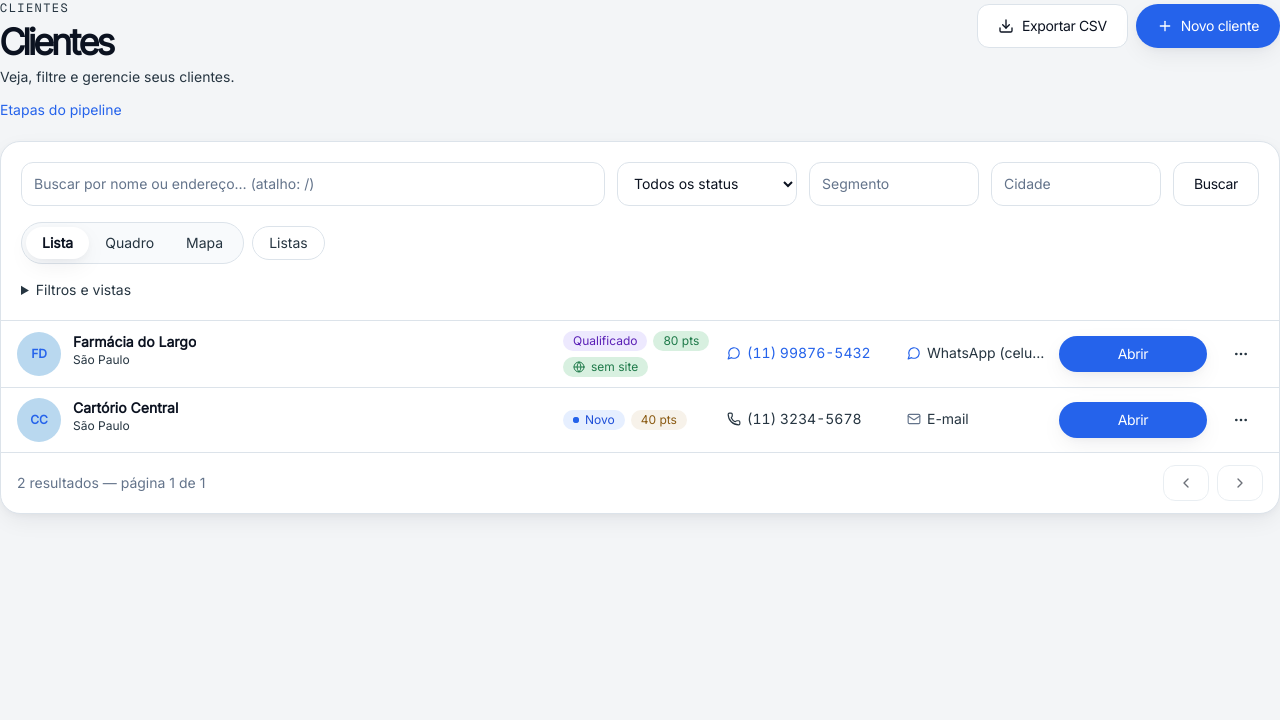
Test case: LeadsPage saved views › shows WhatsApp for a Brazilian mobile and a landline as phone/email
Click the heading "Filtros e vistas": (83, 289) [36,281,131,298]
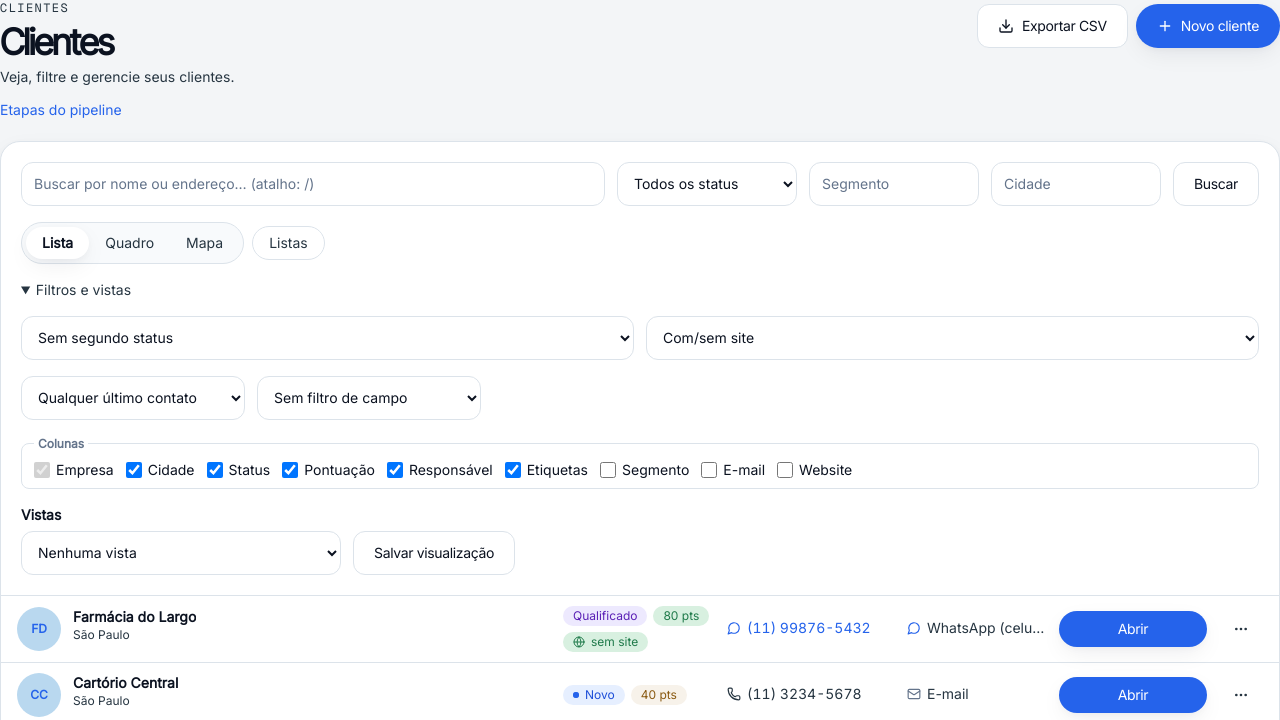
Expected: the text "WhatsApp (celular)" is shown, [927,618,1047,638]
Now the text "E-mail" is shown, box [701,460,765,480]
Now the number of buttons "Abrir" is 2, box [1059,611,1207,647]; [1059,677,1207,713]
